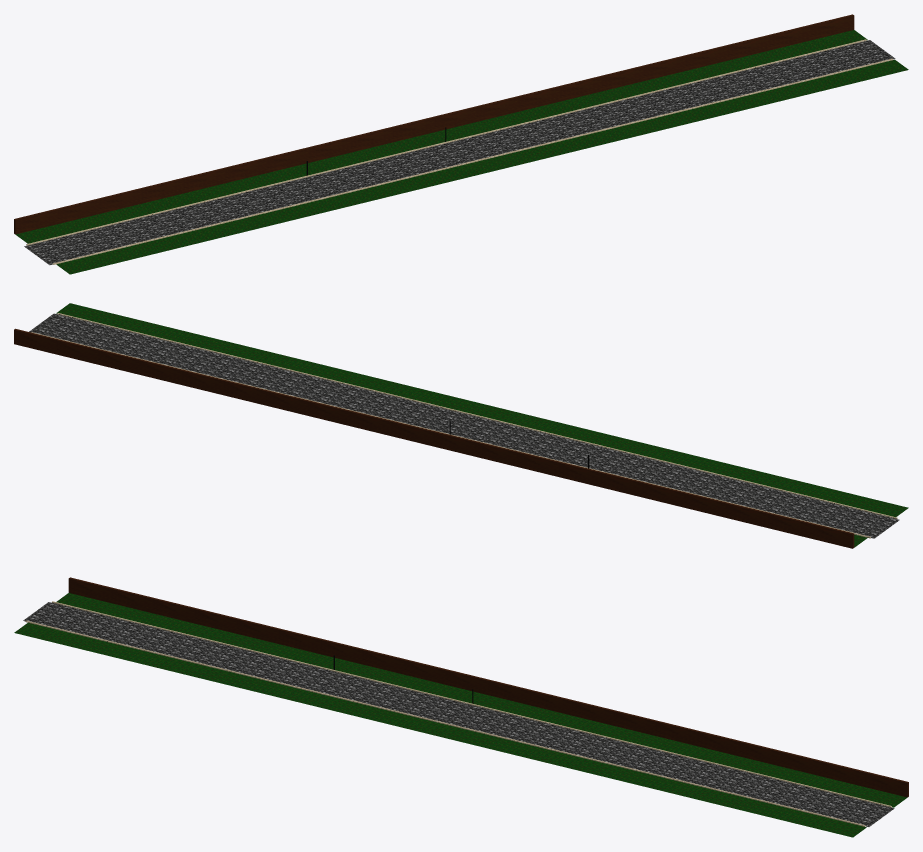
The picture shows the model from 3 angles, top to bottom: view 1: azimuth 30°, elevation 25°; view 2: azimuth 150°, elevation 25°; view 3: azimuth 330°, elevation 25°; orthographic projection.
Parts seen in each view (by area): view 1: Plane001, object 4, Plan002, Plan001, Box003, Box004; view 2: Plane001, object 4, Plan002, Box003, Box004; view 3: Plane001, object 4, Plan002, Plan001, Box003, Box004.
Boxes of the visible parts, x1,y1,x2,y2 form: Plane001: (24, 40, 895, 265); object 4: (14, 14, 854, 234); Plan002: (56, 59, 908, 274); Plan001: (15, 30, 867, 243); Box003: (52, 58, 892, 264); Box004: (26, 39, 866, 245); Plane001: (29, 313, 899, 538); object 4: (14, 328, 854, 548); Plan002: (56, 303, 908, 517); Box003: (57, 313, 897, 518); Box004: (31, 332, 870, 538); Plane001: (23, 602, 894, 826); object 4: (68, 577, 908, 797); Plan002: (14, 622, 866, 837); Plan001: (56, 593, 907, 807); Box003: (25, 620, 865, 826); Box004: (52, 601, 891, 807).
Bounding box in the file's own units: 244 × 4.13 × 28.03.
Materials: 5 (4 with a texture image).
